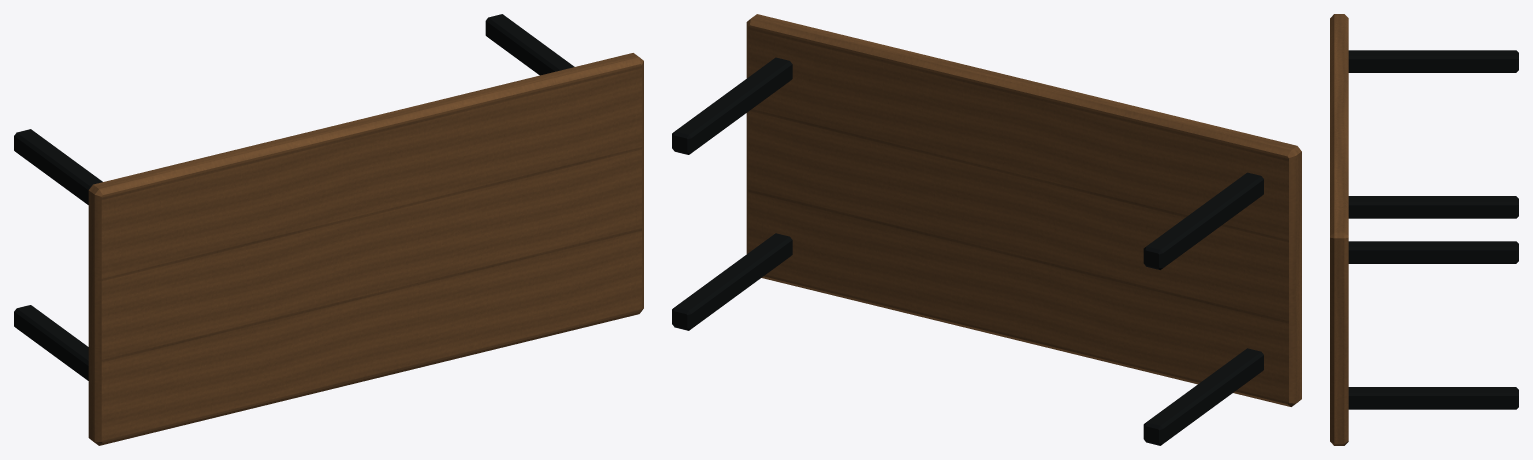
Rendered from family_table.obj.
3 renders of one model, left to right at view 1: azimuth 30°, elevation 25°; view 2: azimuth 150°, elevation 25°; view 3: azimuth 270°, elevation 25°, orthographic. The views are drawn at different scales.
Parts seen in each view (by area): view 1: family_table_oak, family_table_frame; view 2: family_table_oak, family_table_frame; view 3: family_table_frame, family_table_oak.
Part boxes in pixels (<box>): family_table_oak: <box>88,53,643,445</box>; family_table_frame: <box>14,14,574,380</box>; family_table_oak: <box>746,14,1301,406</box>; family_table_frame: <box>672,57,1263,445</box>; family_table_frame: <box>1348,50,1518,409</box>; family_table_oak: <box>1330,14,1348,445</box>.
Size of the model in its own units: 85 by 38 by 30.5.
2 materials, 2 textured.
